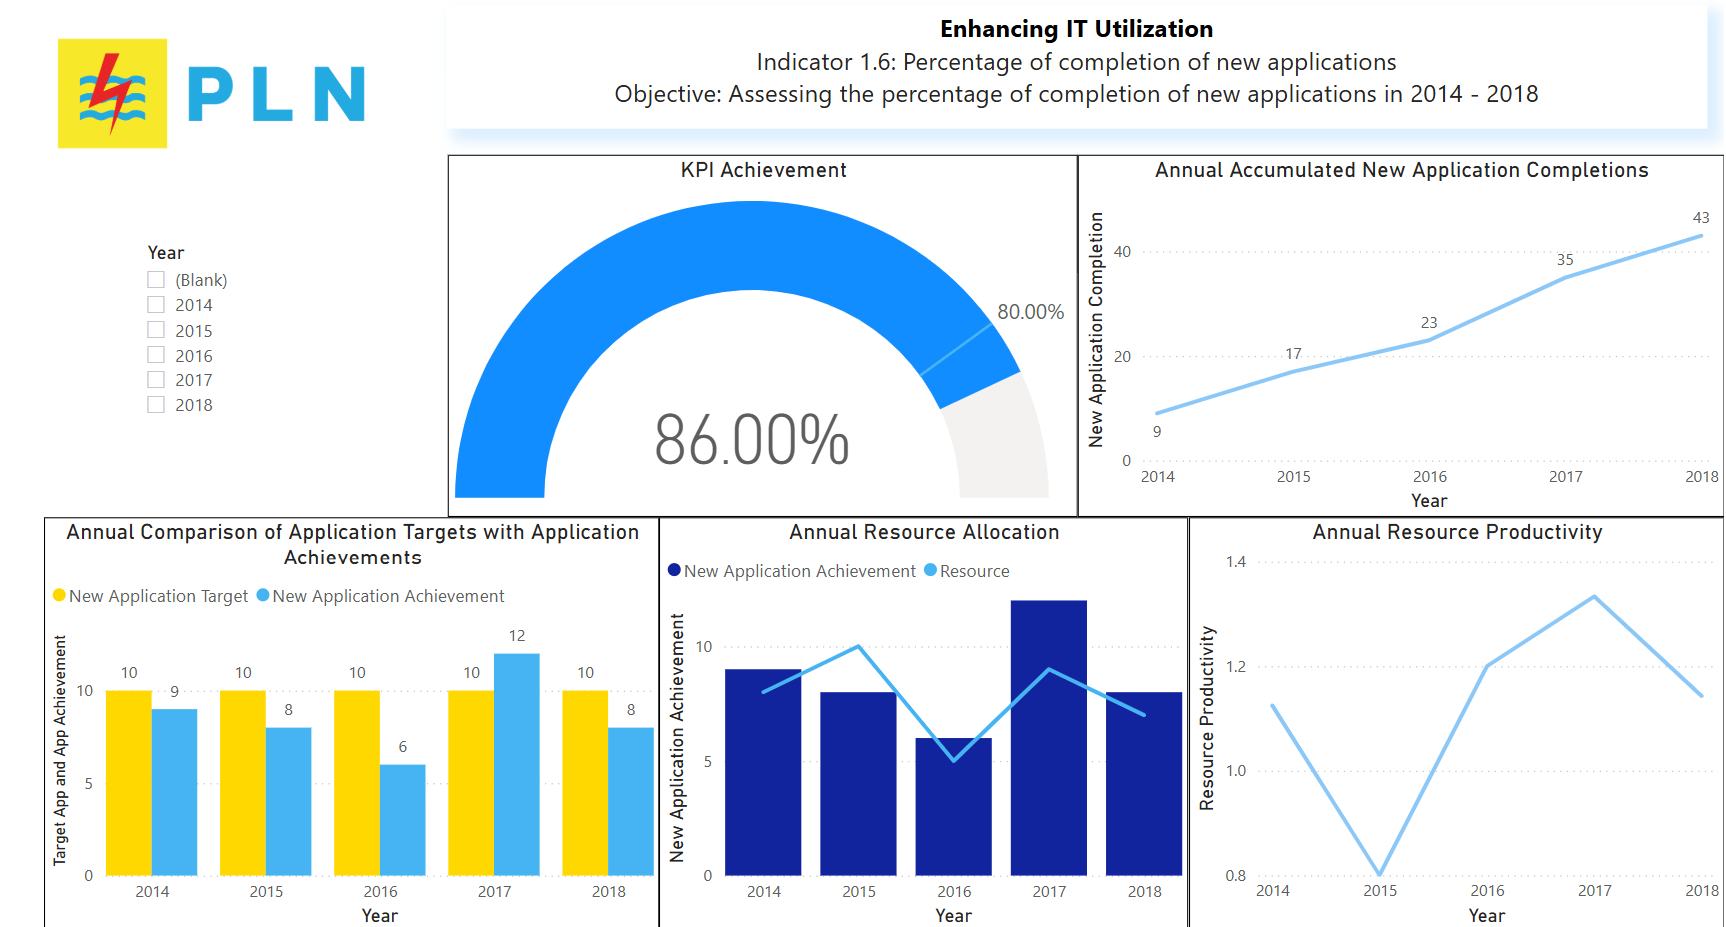

The page's visual inventory and layout, read from the dashboard file:
{"tool":"powerbi","page":{"name":"New Application Completion Percentage","canvas":[1280,720],"ordinal":3},"visuals":[{"type":"gauge","title":"KPI Achievement","fields":{"Y":["Sum(4 1 Presentase penyelesaian apl (2).Capaian KPI)"],"TargetValue":["Sum(4 1 Presentase penyelesaian apl (2).Target Aplikasi Baru Hierarchy.Target KPI)"]},"box":[307.3,128.1,480.2,276.2],"z":0},{"type":"lineChart","title":"Annual Accumulated New Application Completions","fields":{"Category":["4 1 Presentase penyelesaian apl (2).Tahun"],"Y":["Sum(4 1 Presentase penyelesaian apl (2).Akumulasi Aplikasi baru)"]},"box":[787.4,128.1,492.6,276.2],"z":1000},{"type":"clusteredColumnChart","title":"Annual Comparison of Application Targets with Application Achievements","fields":{"Y":["Sum(4 1 Presentase penyelesaian apl (2).Target Aplikasi Baru)","Sum(4 1 Presentase penyelesaian apl (2).Capaian Aplikasi Baru)"],"Category":["4 1 Presentase penyelesaian apl (2).Tahun"]},"box":[0,404.3,469,316],"z":2000},{"type":"lineStackedColumnComboChart","title":"Annual Resource Allocation","fields":{"Y":["Sum(4 1 Presentase penyelesaian apl (2).Capaian Aplikasi Baru)"],"Y2":["Sum(4 1 Presentase penyelesaian apl (2).Resource)"],"Category":["4 1 Presentase penyelesaian apl (2).Tahun"]},"box":[469,404.3,403,316],"z":3000},{"type":"image","box":[5.7,0,243.3,164.1],"z":4000},{"type":"textbox","box":[307,14.1,960.5,94.8],"z":5000},{"type":"slicer","fields":{"Values":["4 1 Presentase penyelesaian apl (2).Tahun"]},"box":[65.9,189.1,121.9,153],"z":6000},{"type":"lineChart","title":"Annual Resource Productivity","fields":{"Category":["4 1 Presentase penyelesaian apl (2).Tahun"],"Y":["Sum(4 1 Presentase penyelesaian apl (2).Produktivitas Resource)"]},"box":[872,404.3,408,316],"z":7000}]}

Visuals, with their boxes on the page's 1280x720 design canvas (x1, y1, x2, y2). These are canvas units, not pixel positions in the 1726x927 screenshot, which may show the page scaled, cropped or inside an application window:
"KPI Achievement" gauge: x1=307, y1=128, x2=788, y2=404
"Annual Accumulated New Application Completions" lineChart: x1=787, y1=128, x2=1280, y2=404
"Annual Comparison of Application Targets with Application Achievements" clusteredColumnChart: x1=0, y1=404, x2=469, y2=720
"Annual Resource Allocation" lineStackedColumnComboChart: x1=469, y1=404, x2=872, y2=720
image: x1=6, y1=0, x2=249, y2=164
textbox: x1=307, y1=14, x2=1268, y2=109
slicer - 4 1 Presentase penyelesaian apl (2).Tahun: x1=66, y1=189, x2=188, y2=342
"Annual Resource Productivity" lineChart: x1=872, y1=404, x2=1280, y2=720
